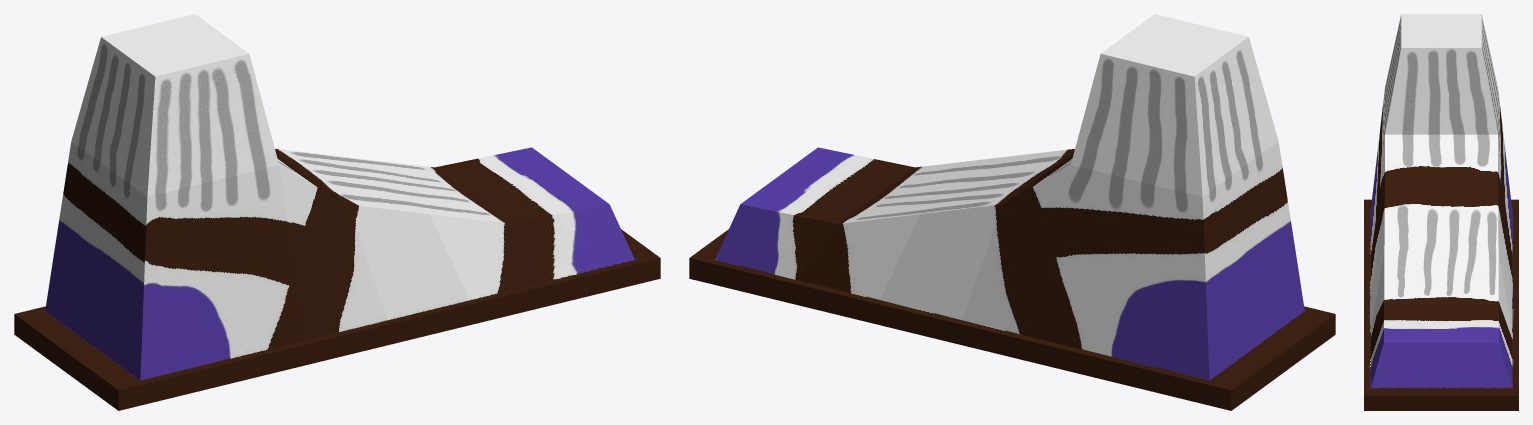
The model's file is foot.glb.
3 views of the same model, side by side, from view 1: azimuth 30°, elevation 25°; view 2: azimuth 150°, elevation 25°; view 3: azimuth 270°, elevation 25° (orthographic). The views are drawn at different scales.
Parts seen in each view (by area): view 1: Foot; view 2: Foot; view 3: Foot.
Part boxes in pixels (<box>): Foot: <box>14,14,660,410</box>; Foot: <box>689,14,1335,410</box>; Foot: <box>1364,14,1518,410</box>.
Size of the model in its own units: 6.57 by 3.49 by 2.19.
1 material, 1 textured.
